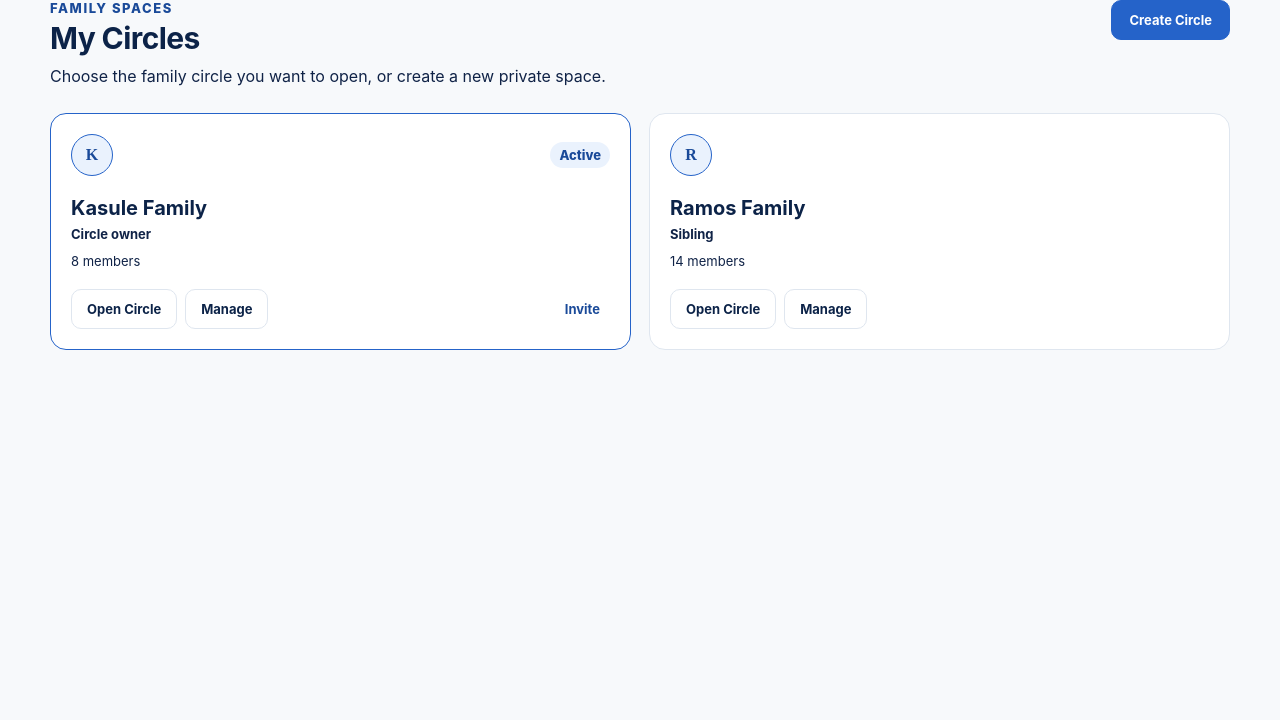
Scenario: MyCircles › invites only from an owner Circle and refreshes the authoritative list after the normalized outcome
Click the button with aria-label "Invite to Kasule Family".
click(582, 309)  # box [555,289,610,329]
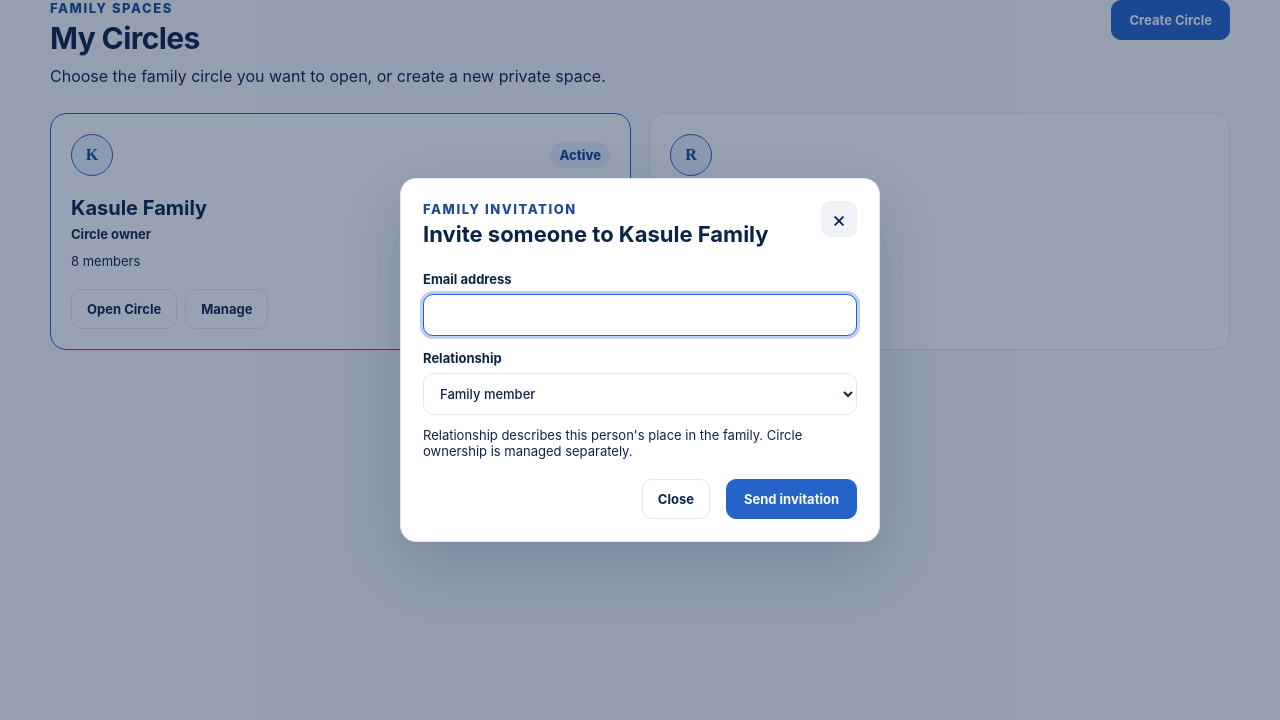
Type "relative@example.test" into the field labelled "Email address".
click(640, 315); type("relative@example.test")  # box [423,294,857,336]
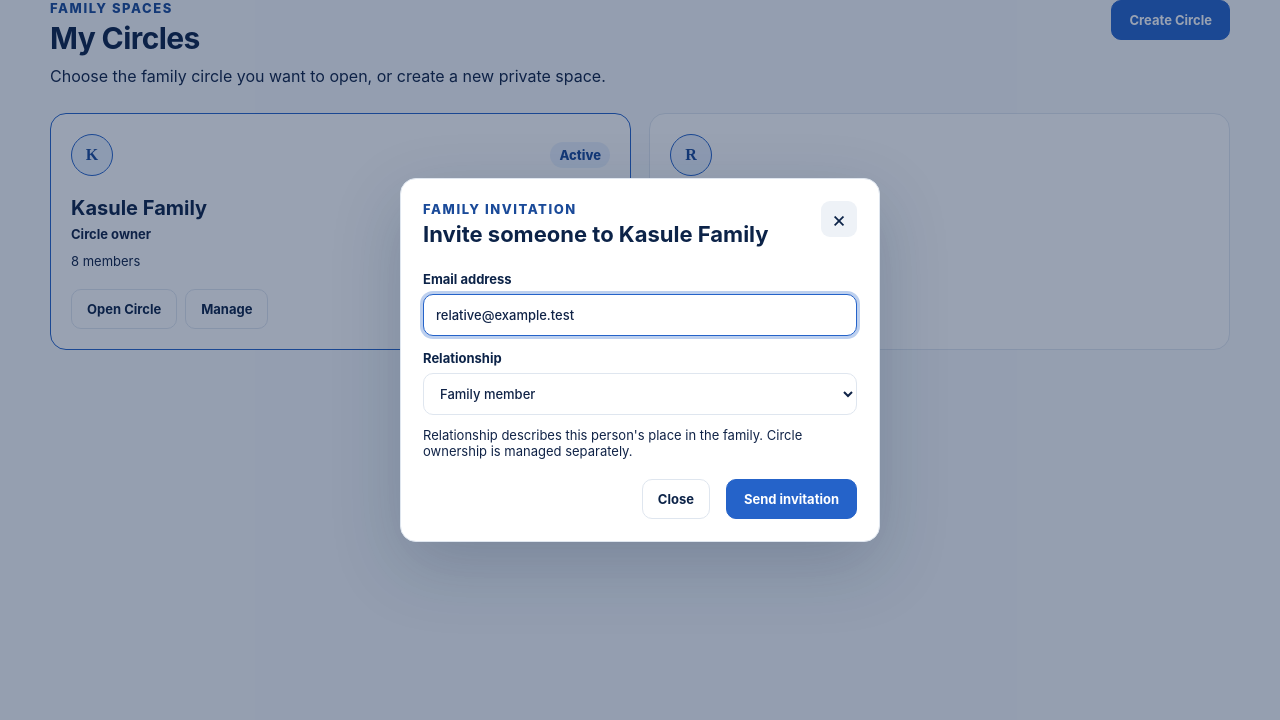
Select "Parent" in the dropdown labelled "Relationship" at (640, 394), box [423,373,857,415]
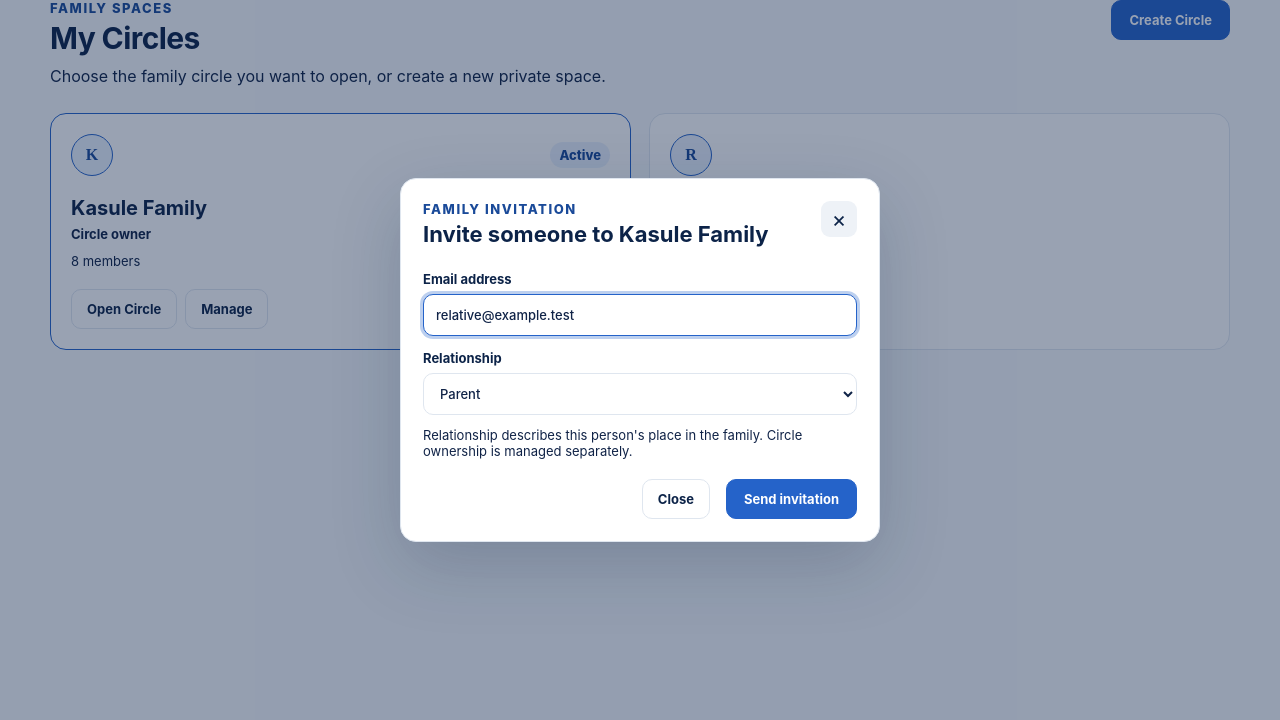
Click the button "Send invitation".
click(791, 499)  # box [726,479,857,519]
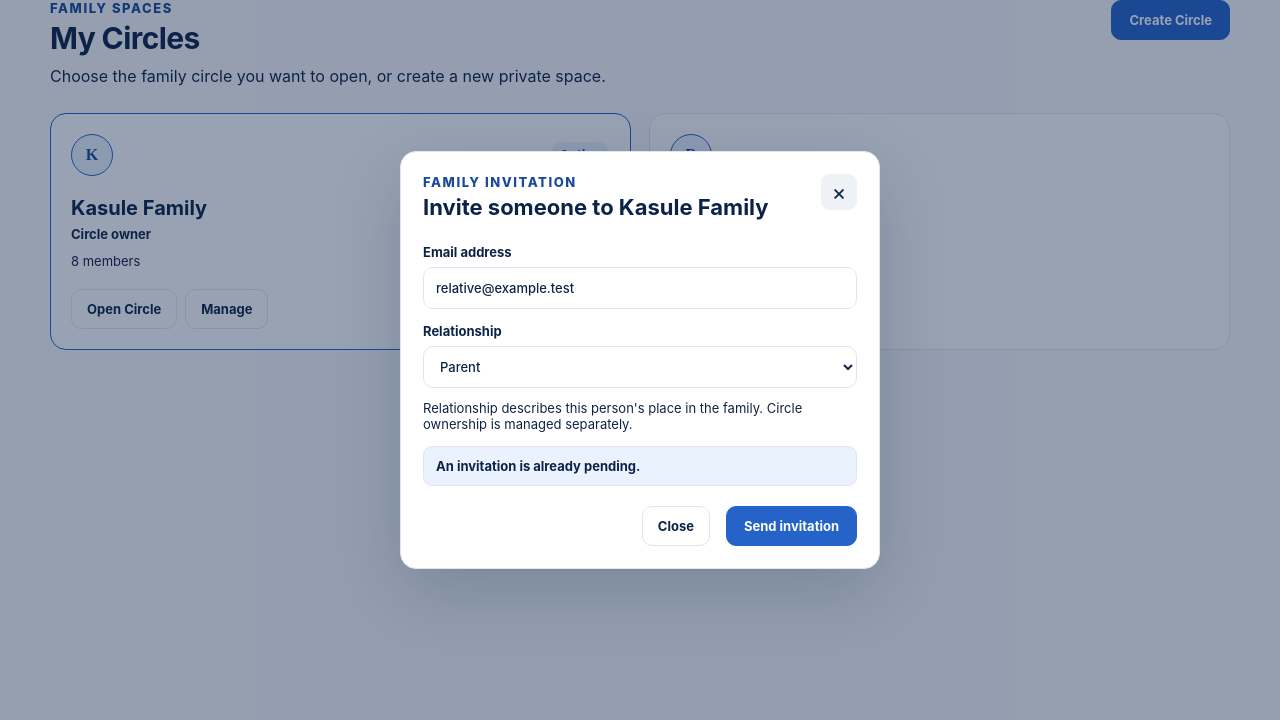
Expected: the text "An invitation is already pending." is shown, [423,446,857,486]
